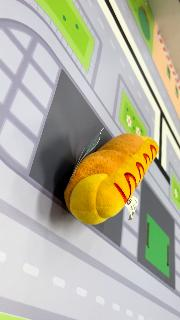hotdog: (64, 132, 160, 226)
